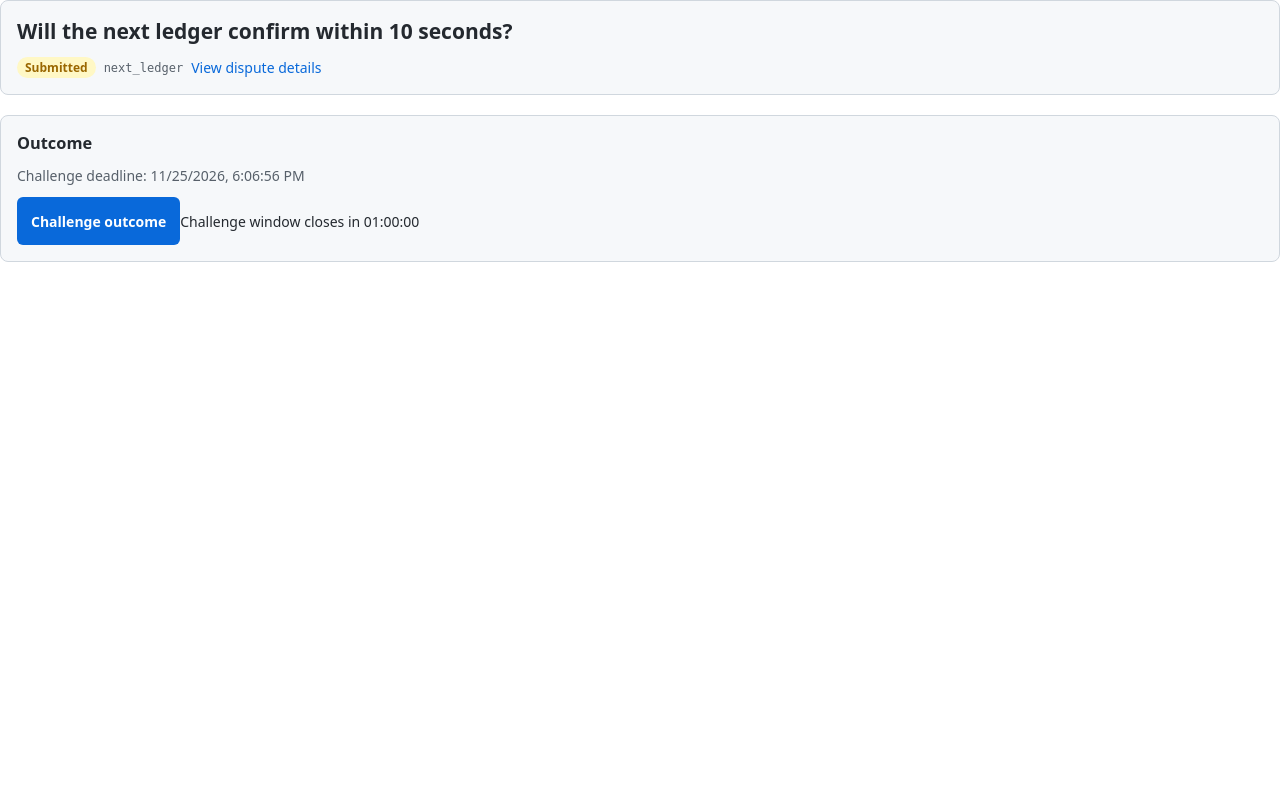
Scenario: MarketPage › shows the challenged state optimistically while the challenge is signing
Click the button "Challenge outcome". click: point(99, 221)
box: [17,197,180,245]
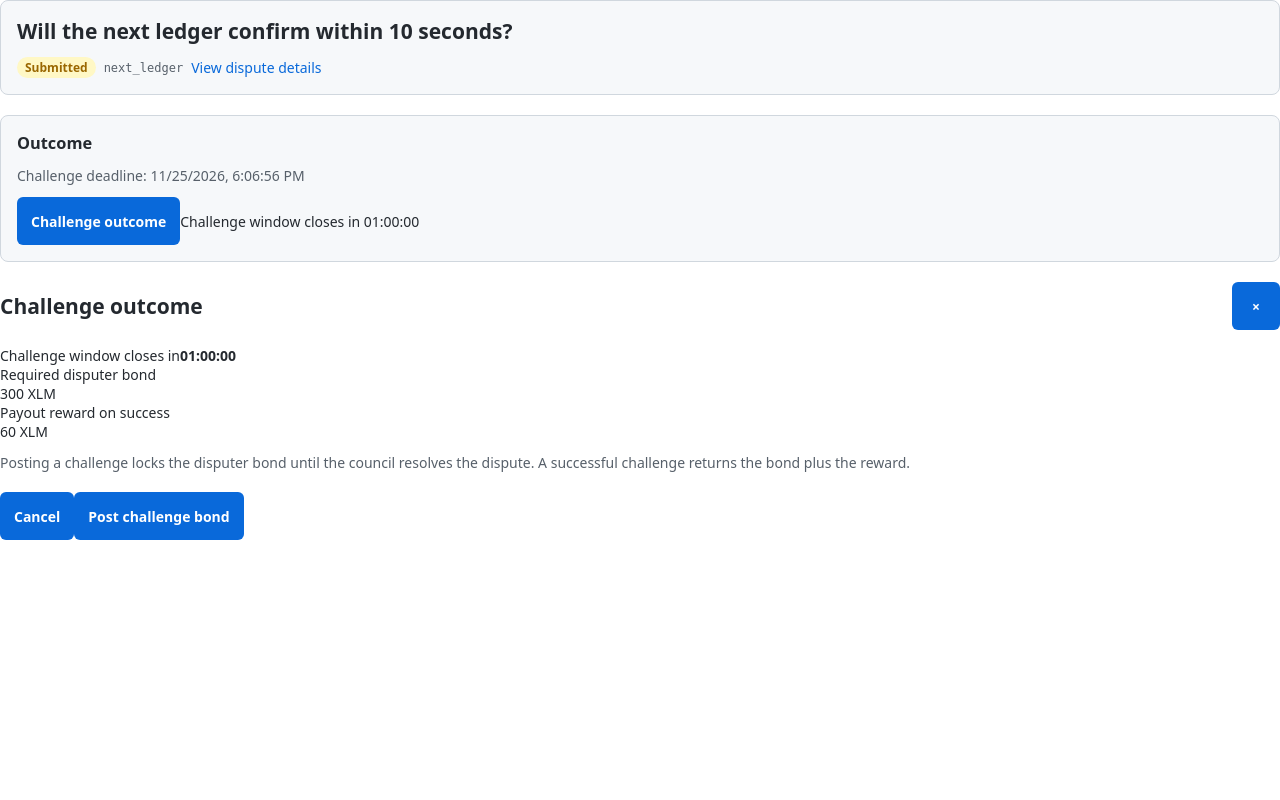
Click the button "Post challenge bond". click: point(159, 516)
box: [74,492,244,540]
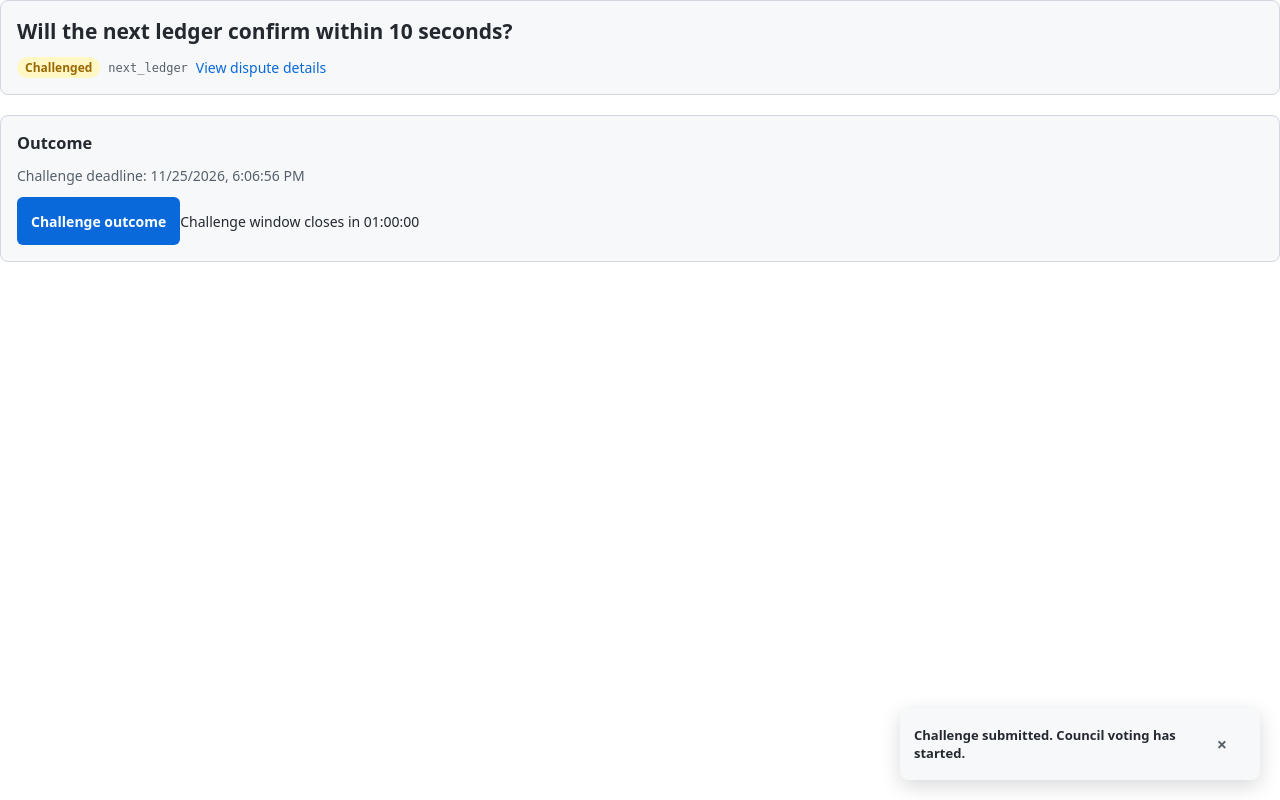
Check: the text "Challenged" is shown, box [17,57,100,78]
